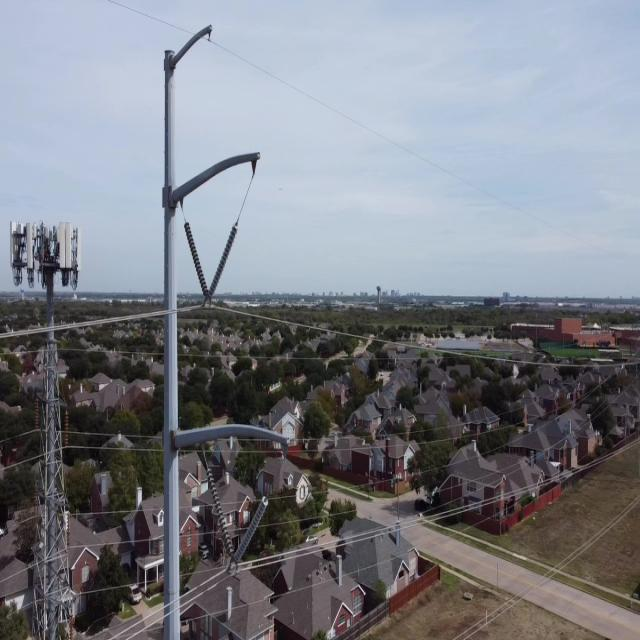杆塔: (23, 287, 81, 640)
正常绝缘子: (223, 475, 279, 583), (197, 452, 242, 579), (199, 209, 247, 319), (176, 203, 216, 317)
